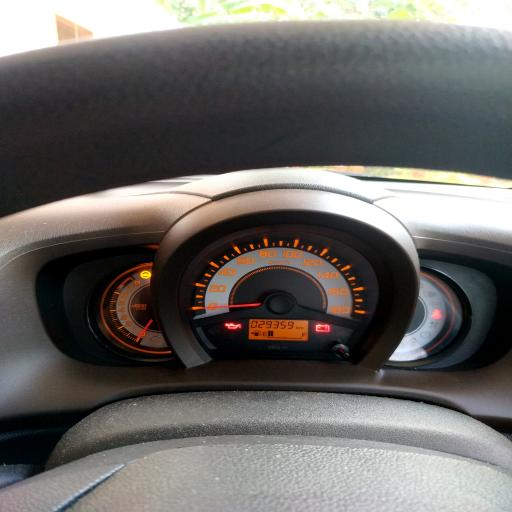oil: (224, 322, 242, 330)
tachometer: (87, 259, 174, 362)
vehicle_charging: (315, 324, 330, 332)
